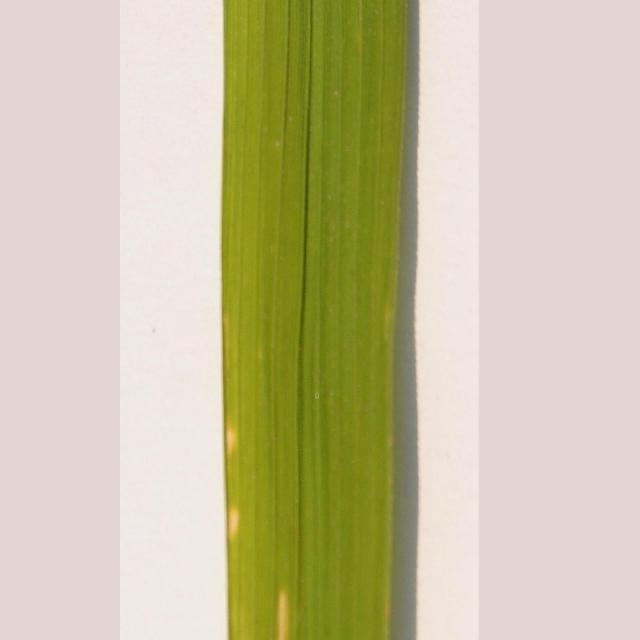Bacterial leaf blight: (271, 569, 304, 640), (227, 496, 264, 550), (222, 414, 248, 462)
